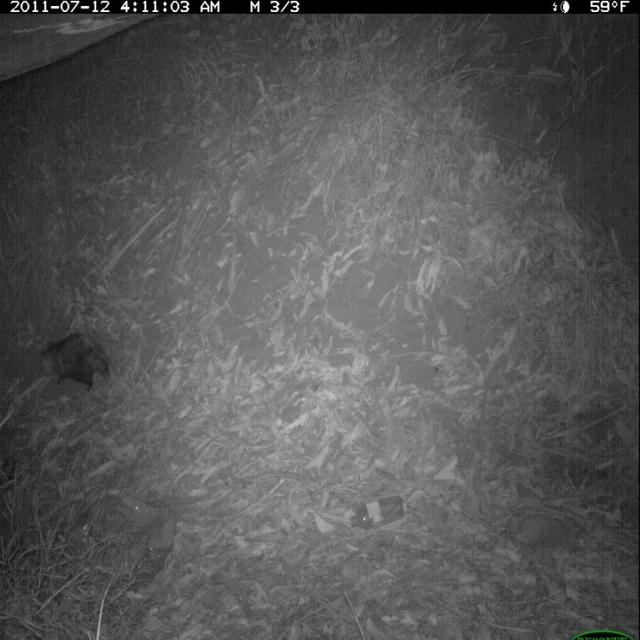opossum: (36, 327, 123, 401)
